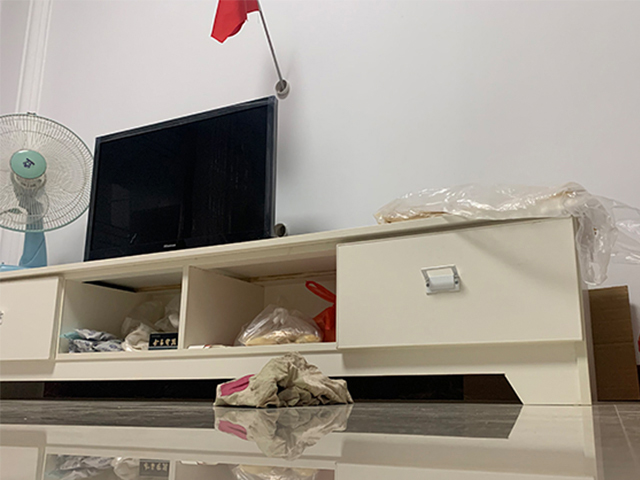cabinet: (1, 186, 595, 407)
